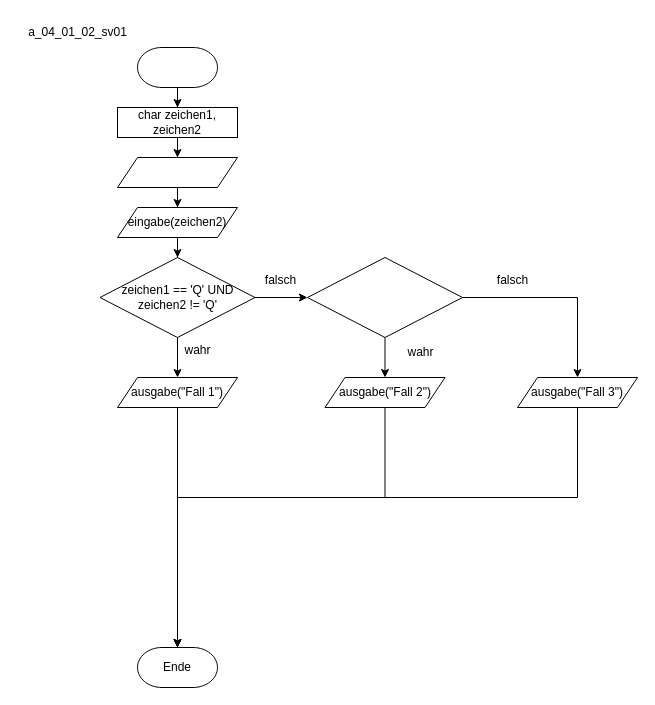
This 655x705 diagram has some shape labels left out. Here are the shapes that lost their labels. From the top down, the centre of each, then its label:
At point 177,67: "Start".
At point 177,172: "eingabe(zeichen1)".
At point 384,297: "zeichen1 != 'Q' UND zeichen2 == 'Q'".
